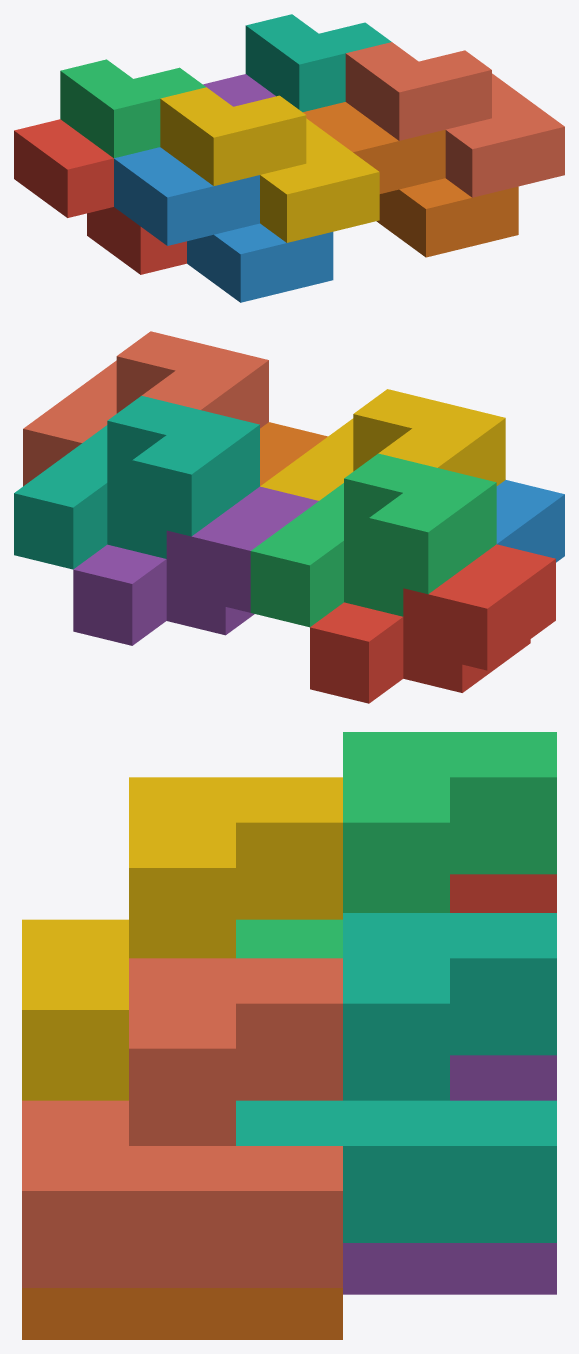
File: tiling.obj
3 views of the same model, one above another, from view 1: azimuth 30°, elevation 25°; view 2: azimuth 150°, elevation 25°; view 3: azimuth 270°, elevation 25° (orthographic). The views are drawn at different scales.
Visible parts, largest first — view 1: copy_1_domain_8, copy_1_domain_4, copy_1_domain_2, copy_1_domain_6, copy_1_domain_1, copy_1_domain_3, copy_1_domain_7, copy_1_domain_5; view 2: copy_1_domain_3, copy_1_domain_7, copy_1_domain_1, copy_1_domain_5, copy_1_domain_8, copy_1_domain_4, copy_1_domain_2, copy_1_domain_6; view 3: copy_1_domain_8, copy_1_domain_7, copy_1_domain_4, copy_1_domain_3, copy_1_domain_6, copy_1_domain_5, copy_1_domain_1.
Part boxes in pixels (x1,y1,x2,y2): copy_1_domain_8: (345, 42, 564, 197); copy_1_domain_4: (160, 87, 379, 242); copy_1_domain_2: (114, 147, 333, 302); copy_1_domain_6: (303, 102, 518, 257); copy_1_domain_1: (14, 119, 186, 274); copy_1_domain_3: (60, 59, 205, 158); copy_1_domain_7: (245, 14, 391, 112); copy_1_domain_5: (203, 74, 275, 106); copy_1_domain_3: (250, 453, 496, 627); copy_1_domain_7: (14, 395, 259, 569); copy_1_domain_1: (310, 544, 555, 703); copy_1_domain_5: (73, 486, 318, 645); copy_1_domain_8: (23, 331, 268, 486); copy_1_domain_4: (260, 389, 505, 500); copy_1_domain_2: (496, 480, 564, 562); copy_1_domain_6: (260, 422, 327, 485); copy_1_domain_8: (22, 958, 342, 1287); copy_1_domain_7: (236, 913, 556, 1242); copy_1_domain_4: (22, 777, 342, 1100); copy_1_domain_3: (236, 732, 556, 958); copy_1_domain_6: (22, 1288, 342, 1339); copy_1_domain_5: (343, 1055, 556, 1294); copy_1_domain_1: (450, 874, 556, 912).
Bounding box in the file's own units: 9 × 3 × 5.
